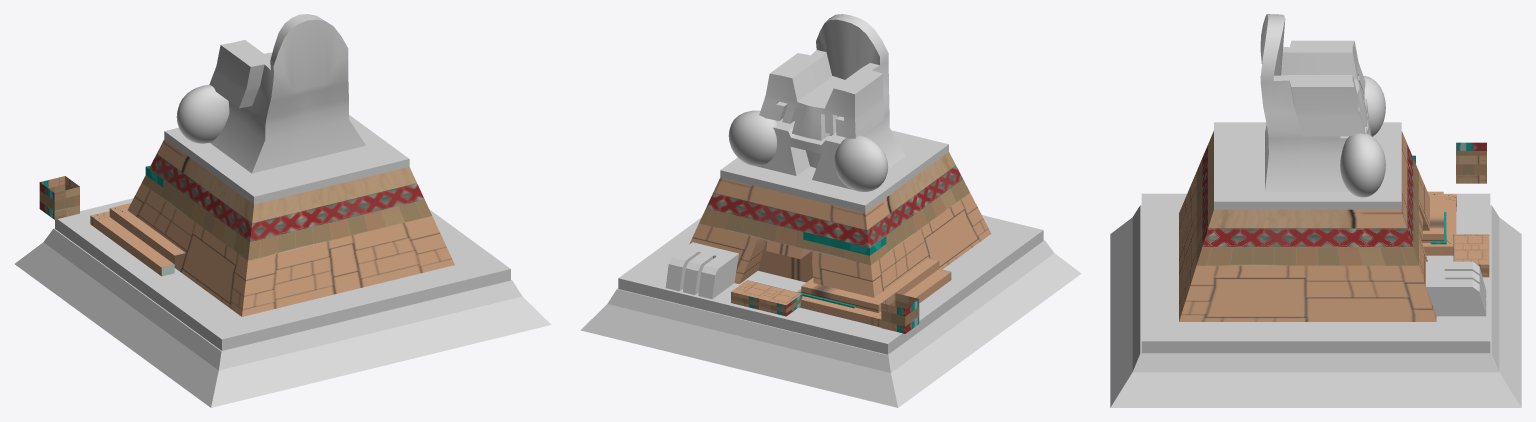
File: Trim_BigTemple.fbx
3 renders of one model, left to right at view 1: azimuth 30°, elevation 25°; view 2: azimuth 150°, elevation 25°; view 3: azimuth 270°, elevation 25°, orthographic. The views are drawn at different scales.
Visible parts, largest first — view 1: BigTemple_MainEntrance.001, BigTemple_Base, BigTemple_Top, BigTemple_GoldPlatform02, BigTemple_GoldPlatform01, BigTemple_MainEntrance.003, BigTemple_TopEye, Cube.001; view 2: BigTemple_Base, BigTemple_MainEntrance.001, BigTemple_Top, BigTemple_GoldPlatform02, BigTemple_GoldPlatform01, BigTemple_TopEye, BigTemple_MainEntrance.003, BigTemple_Paw, Cube.001, Cube.003, Cube.002, BigTemple_MainEntrance.005; view 3: BigTemple_Base, BigTemple_MainEntrance.001, BigTemple_GoldPlatform02, BigTemple_Top, BigTemple_GoldPlatform01, BigTemple_TopEye, BigTemple_Paw, BigTemple_MainEntrance.003, Cube.001, Cube.002, Cube.003.
Part boxes in pixels (x1=…): BigTemple_MainEntrance.001: x1=127, y1=139, x2=454, y2=316; BigTemple_Base: x1=15, y1=228, x2=551, y2=407; BigTemple_Top: x1=209, y1=14, x2=365, y2=173; BigTemple_GoldPlatform02: x1=55, y1=198, x2=510, y2=350; BigTemple_GoldPlatform01: x1=164, y1=115, x2=409, y2=204; BigTemple_MainEntrance.003: x1=90, y1=203, x2=185, y2=276; BigTemple_TopEye: x1=176, y1=85, x2=229, y2=143; Cube.001: x1=39, y1=176, x2=79, y2=219; BigTemple_Base: x1=580, y1=240, x2=1081, y2=407; BigTemple_MainEntrance.001: x1=689, y1=152, x2=991, y2=297; BigTemple_Top: x1=756, y1=14, x2=905, y2=189; BigTemple_GoldPlatform02: x1=618, y1=215, x2=1043, y2=354; BigTemple_GoldPlatform01: x1=720, y1=130, x2=948, y2=212; BigTemple_TopEye: x1=728, y1=110, x2=888, y2=191; BigTemple_MainEntrance.003: x1=796, y1=258, x2=951, y2=327; BigTemple_Paw: x1=665, y1=242, x2=738, y2=299; Cube.001: x1=881, y1=293, x2=919, y2=333; Cube.003: x1=758, y1=287, x2=802, y2=316; Cube.002: x1=731, y1=280, x2=773, y2=309; BigTemple_MainEntrance.005: x1=803, y1=232, x2=886, y2=255; BigTemple_Base: x1=1110, y1=205, x2=1521, y2=407; BigTemple_MainEntrance.001: x1=1179, y1=131, x2=1436, y2=321; BigTemple_GoldPlatform02: x1=1141, y1=193, x2=1490, y2=353; BigTemple_Top: x1=1260, y1=14, x2=1371, y2=191; BigTemple_GoldPlatform01: x1=1214, y1=122, x2=1401, y2=209; BigTemple_TopEye: x1=1340, y1=76, x2=1385, y2=197; BigTemple_Paw: x1=1426, y1=261, x2=1486, y2=316; BigTemple_MainEntrance.003: x1=1421, y1=191, x2=1456, y2=255; Cube.001: x1=1456, y1=142, x2=1486, y2=183; Cube.002: x1=1453, y1=249, x2=1489, y2=277; Cube.003: x1=1453, y1=234, x2=1489, y2=249.
Bounding box in the file's own units: 39302 × 31989 × 39302.
